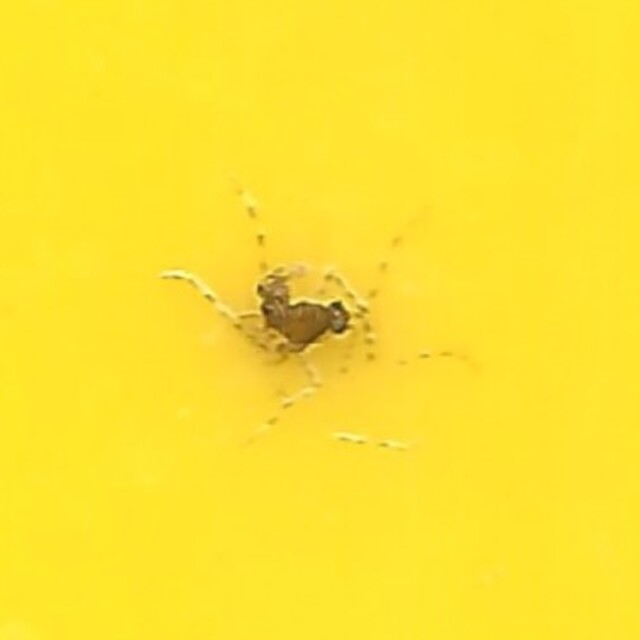Nematocera: (169, 175, 471, 465)
